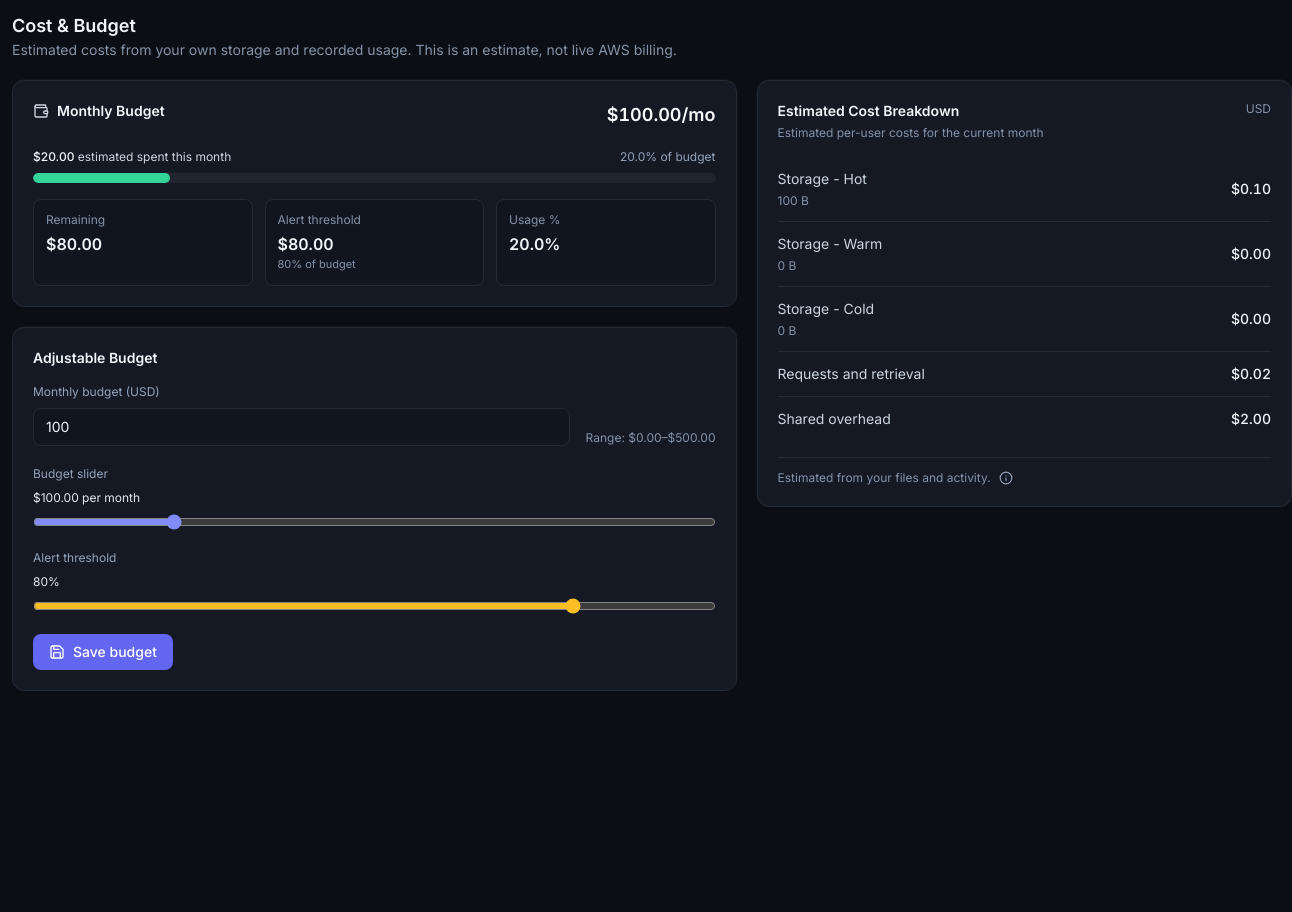
Cost & Budget page › renders per-user estimated monthly budget and the cost breakdown
Check: the text named "Budget $100.00 per month" is shown, box [607, 101, 716, 129]
Check: the text "$20.00" is shown, box [33, 149, 74, 164]
Click the button named "Show cost estimate notes".
click(1006, 478)  # box [999, 471, 1013, 485]
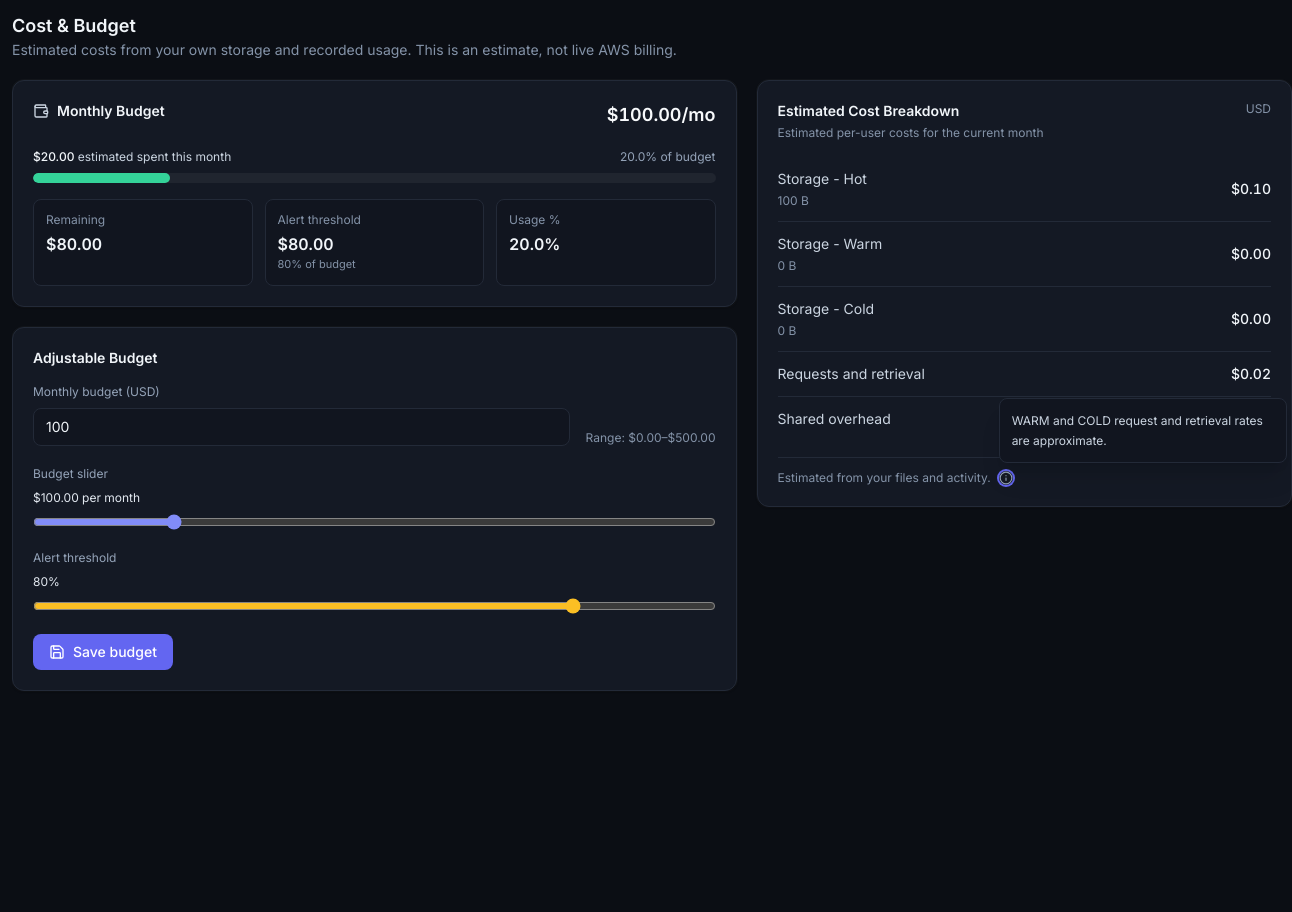
Check: the tooltip reads "WARM and COLD request and retrieval rates are approximate.", box [1012, 413, 1263, 448]
